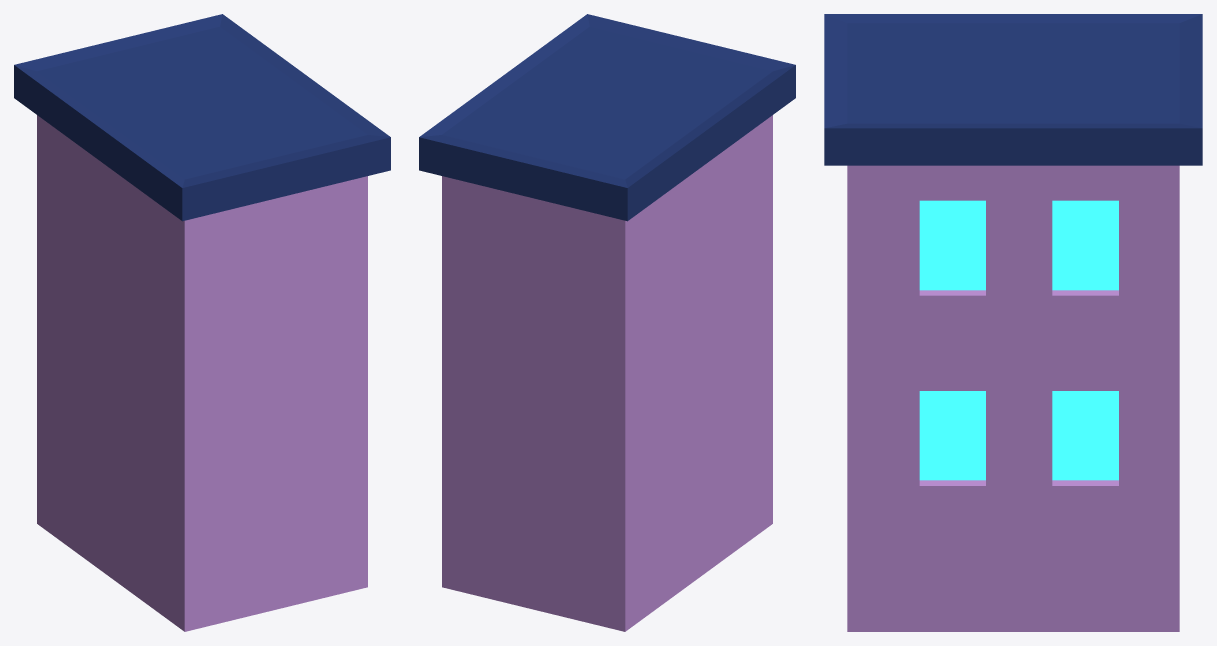
Rendered from testBuilding.glb.
The picture shows the model from 3 angles, left to right: view 1: azimuth 30°, elevation 25°; view 2: azimuth 150°, elevation 25°; view 3: azimuth 270°, elevation 25°; orthographic projection. The views are drawn at different scales.
Visible parts, largest first — view 1: Cube; view 2: Cube; view 3: Cube.
Part boxes in pixels (<box>): Cube: <box>14,14,390,631</box>; Cube: <box>419,14,795,631</box>; Cube: <box>824,14,1202,631</box>.
Bounding box in the file's own units: 7.61 × 15.84 × 10.64.
